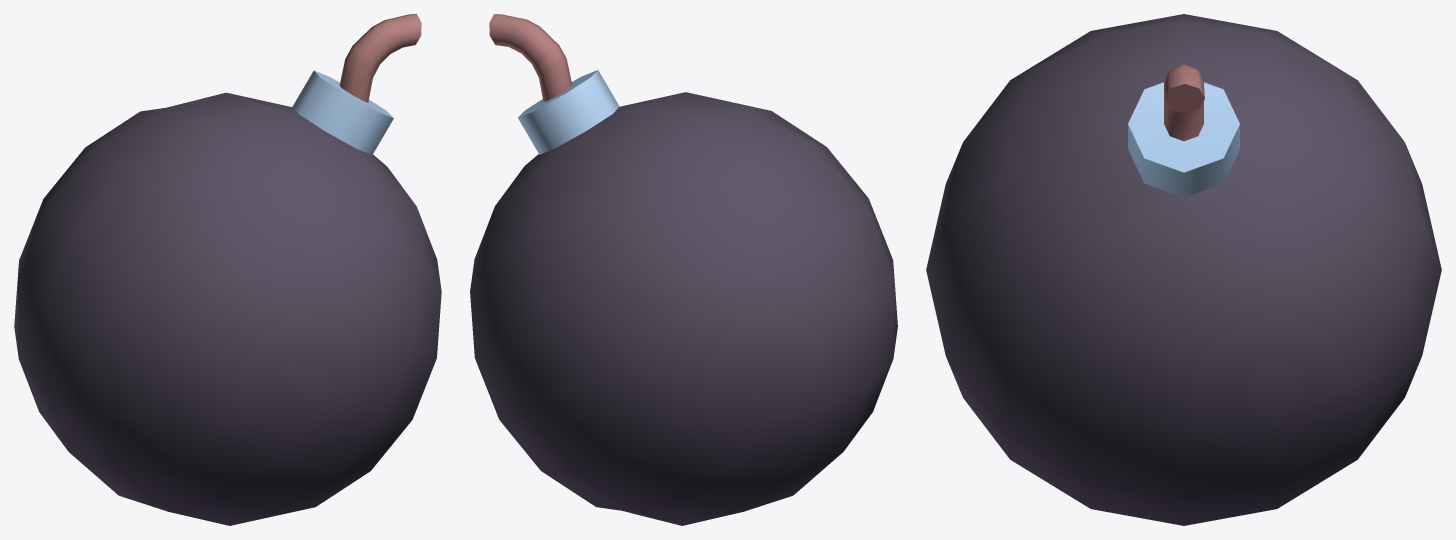
File: Bomb.fbx
The picture shows the model from 3 angles, left to right: view 1: azimuth 30°, elevation 25°; view 2: azimuth 150°, elevation 25°; view 3: azimuth 270°, elevation 25°; orthographic projection. The views are drawn at different scales.
Parts seen in each view (by area): view 1: Bomb; view 2: Bomb; view 3: Bomb.
Part boxes in pixels (x1=…): Bomb: x1=14, y1=14, x2=441, y2=525; Bomb: x1=470, y1=14, x2=897, y2=525; Bomb: x1=926, y1=14, x2=1441, y2=525.
Bounding box in the file's own units: 57.33 × 64.8 × 57.46.
